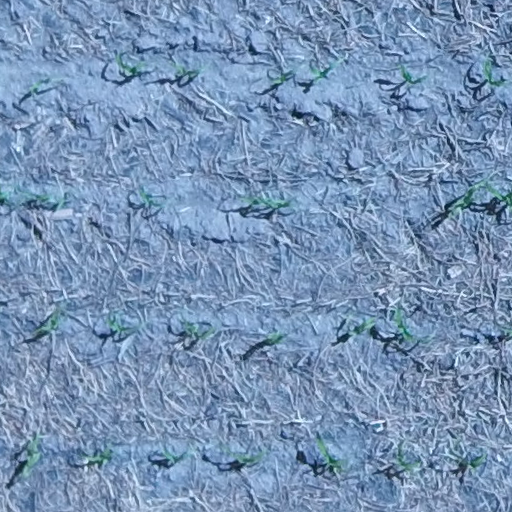planta: (10, 182, 68, 212), (312, 434, 349, 474), (18, 432, 44, 479), (238, 193, 296, 212), (391, 305, 418, 345), (479, 54, 509, 89), (112, 51, 148, 79), (307, 57, 343, 85), (222, 445, 268, 466), (394, 62, 427, 87), (34, 309, 64, 336), (345, 314, 377, 339), (169, 60, 207, 81), (80, 445, 115, 467), (182, 319, 217, 341), (394, 448, 422, 474), (103, 311, 132, 336), (137, 186, 166, 210), (159, 446, 193, 465), (462, 451, 489, 474), (264, 328, 286, 347)
